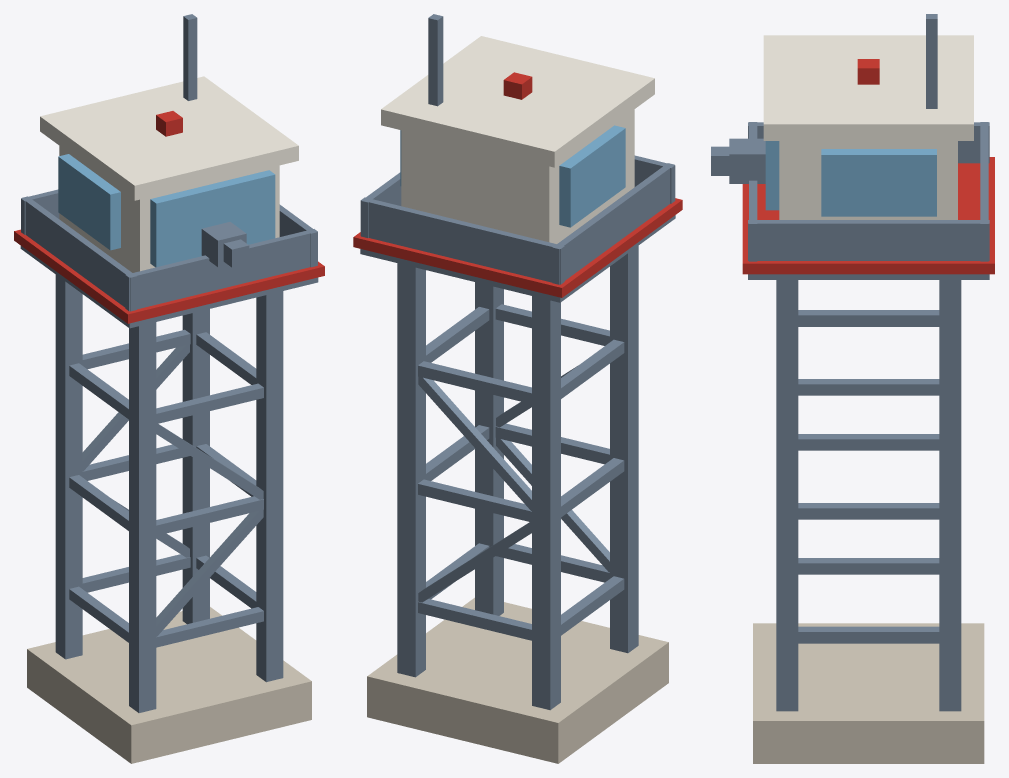
The model's file is tvTower.glb.
The picture shows the model from 3 angles, left to right: view 1: azimuth 30°, elevation 25°; view 2: azimuth 150°, elevation 25°; view 3: azimuth 270°, elevation 25°; orthographic projection. The views are drawn at different scales.
Visible parts, largest first — view 1: tvTower_steel, tvTower_concrete, tvTower_white, tvTower_glass, tvTower_red; view 2: tvTower_steel, tvTower_white, tvTower_concrete, tvTower_red, tvTower_glass; view 3: tvTower_steel, tvTower_white, tvTower_concrete, tvTower_glass, tvTower_red.
Part boxes in pixels (x1,y1,x2,y2): tvTower_steel: (20, 14, 318, 712); tvTower_concrete: (27, 607, 311, 763); tvTower_white: (40, 76, 298, 272); tvTower_glass: (58, 154, 275, 267); tvTower_red: (14, 111, 324, 323); tvTower_steel: (360, 14, 675, 710); tvTower_white: (381, 36, 654, 243); tvTower_concrete: (367, 597, 668, 763); tvTower_red: (353, 72, 682, 297); tvTower_glass: (400, 125, 625, 227); tvTower_steel: (711, 14, 989, 711); tvTower_white: (763, 35, 973, 219); tvTower_concrete: (753, 623, 984, 763); tvTower_glass: (765, 141, 936, 216); tvTower_red: (742, 59, 994, 274).
Bounding box in the file's own units: 4.8 × 15.22 × 5.4.
